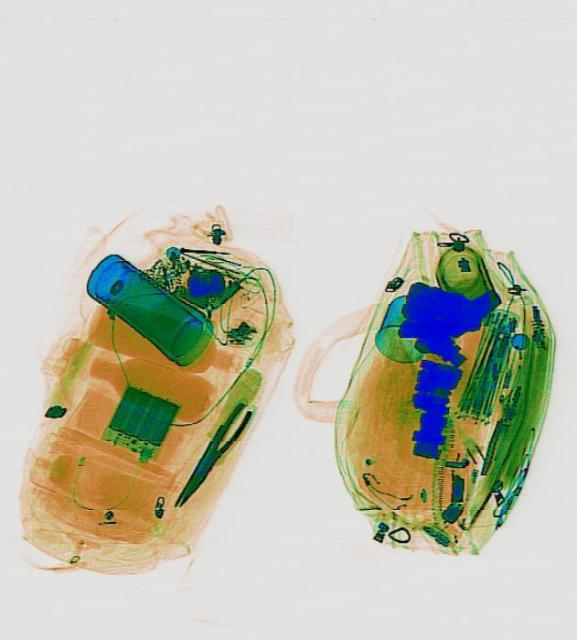Pliers: (171, 399, 255, 509)
